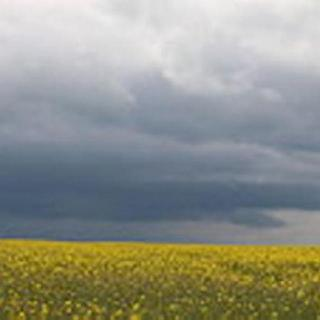Altostratus: (0, 0, 320, 238)
